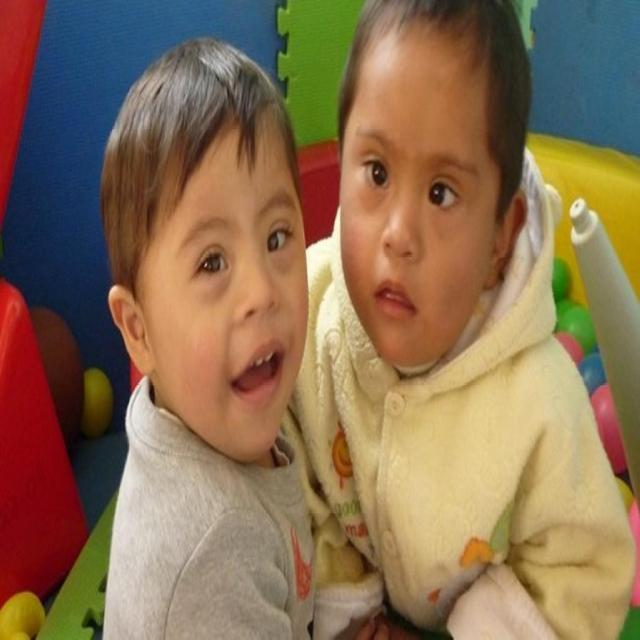Face: (336, 35, 518, 387), (146, 118, 311, 465)
